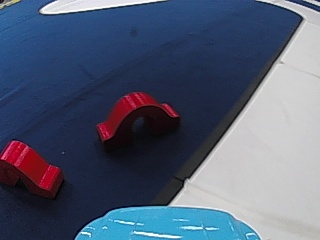bridge: (92, 88, 182, 147), (0, 137, 66, 199)
